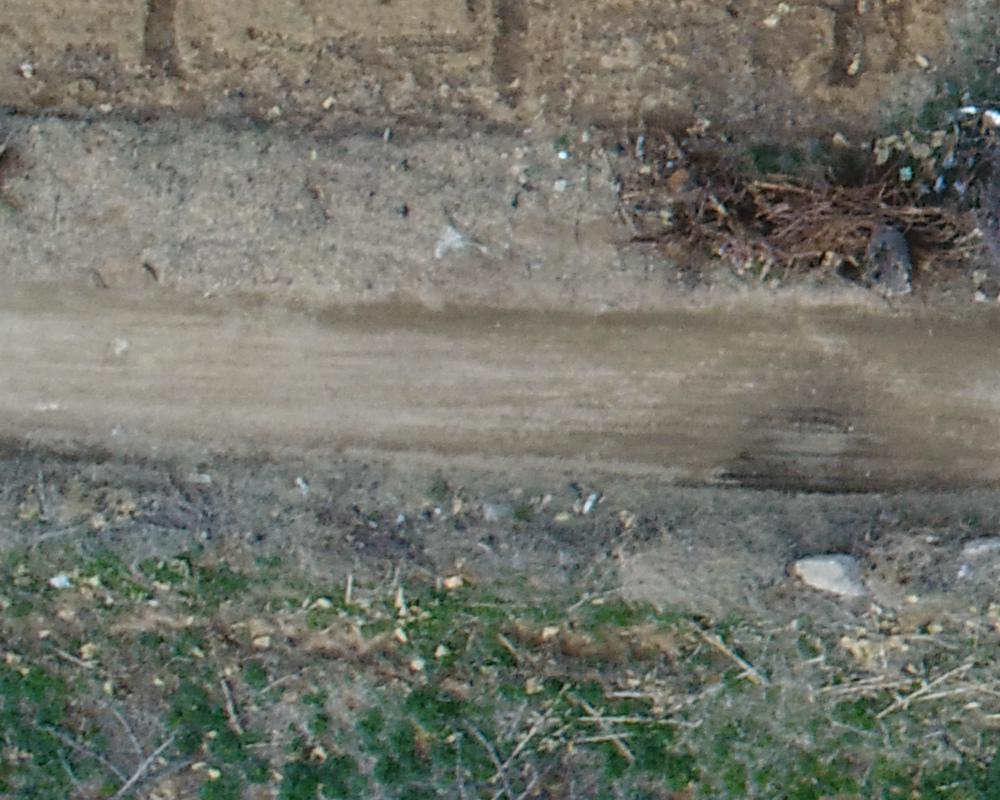apple: (40, 685, 241, 790), (379, 715, 614, 790)
